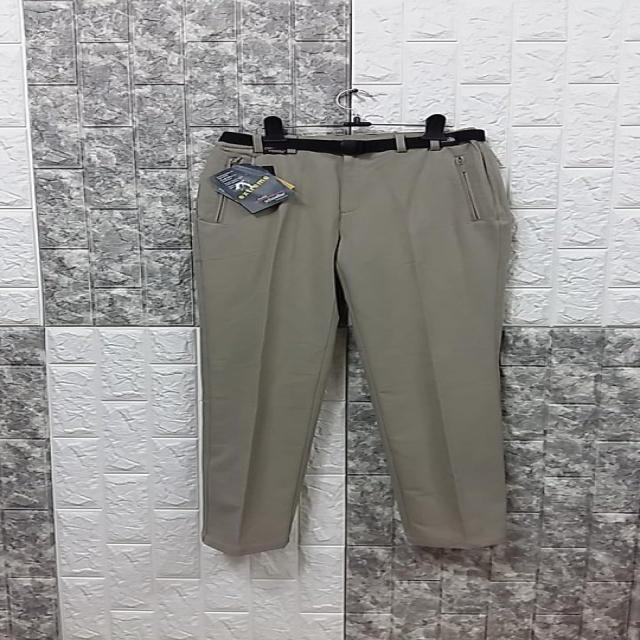long-pants: (192, 129, 518, 555)
